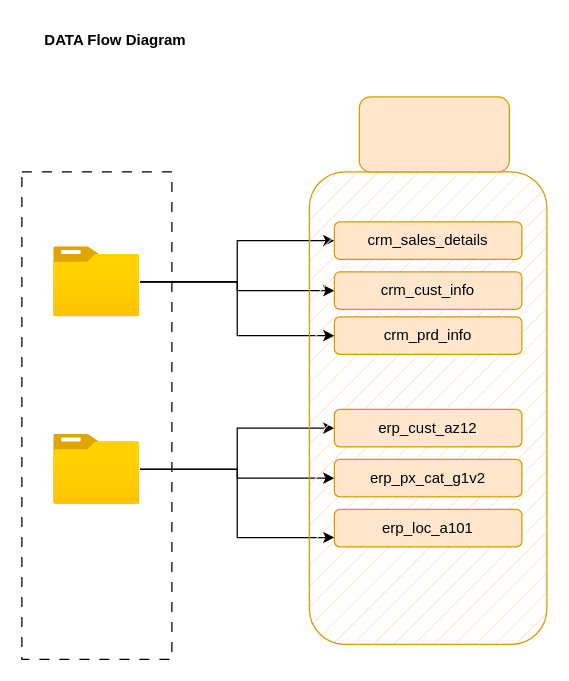
This 569x681 diagram has some shape labels left out. Here are the shapes that lost their labels. From the top down, the box of each, then its label:
(358, 96, 509, 172): Bronze Layer
(53, 246, 139, 316): CRM
(53, 434, 139, 504): ERP
